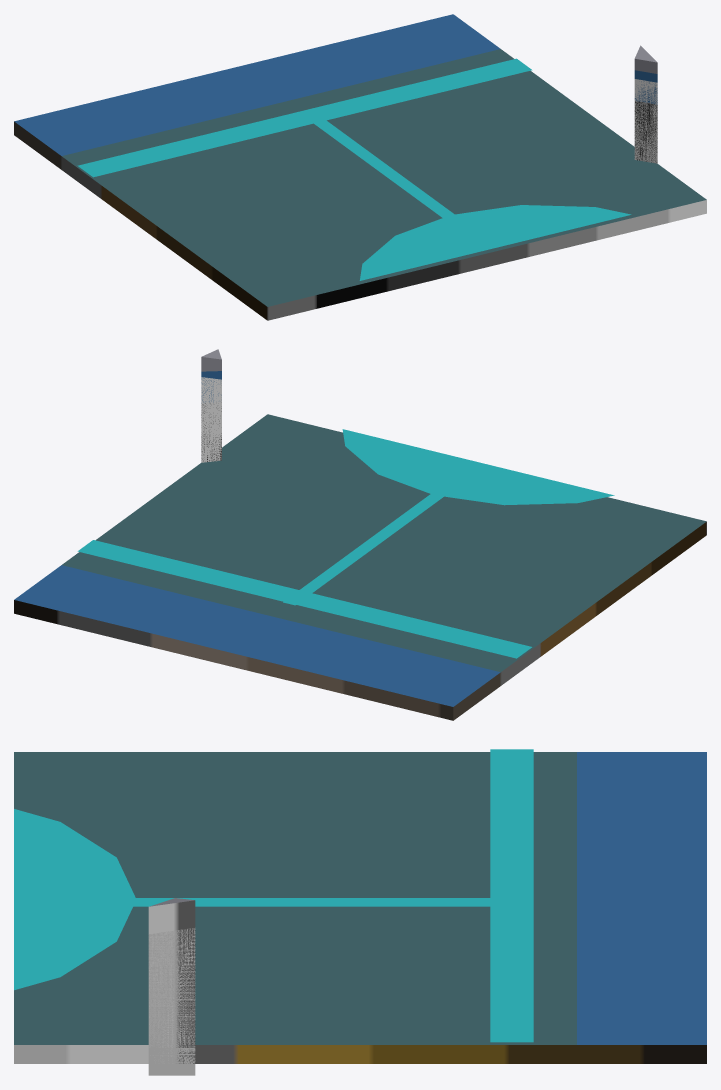
File: tile_2_0_10.gltf
3 views of the same model, one above another, from view 1: azimuth 30°, elevation 25°; view 2: azimuth 150°, elevation 25°; view 3: azimuth 270°, elevation 25° (orthographic). The views are drawn at different scales.
Parts seen in each view (by area): view 1: ground, decal.main, decal.circles, grindcurve.02, grindcurve.01_curve; view 2: ground, decal.main, decal.circles, grindcurve.01_curve, grindcurve.02; view 3: ground, decal.main, decal.circles, grindcurve.01_curve, grindcurve.02.
Part boxes in pixels (x1,y1,x2,y2): ground: (14,14,706,320); decal.main: (77,58,532,217); decal.circles: (359,205,631,280); grindcurve.02: (634,45,657,162); grindcurve.01_curve: (634,79,657,163); ground: (14,414,706,720); decal.main: (77,494,531,658); decal.circles: (342,429,614,505); grindcurve.01_curve: (201,377,221,462); grindcurve.02: (201,349,221,461); ground: (14,752,706,1063); decal.main: (133,749,533,1042); decal.circles: (14,809,136,990); grindcurve.01_curve: (148,928,195,1075); grindcurve.02: (148,898,195,1047).
Bounding box in the file's own units: 8 × 2.23 × 8.
Materials: 2 (2 with a texture image).
